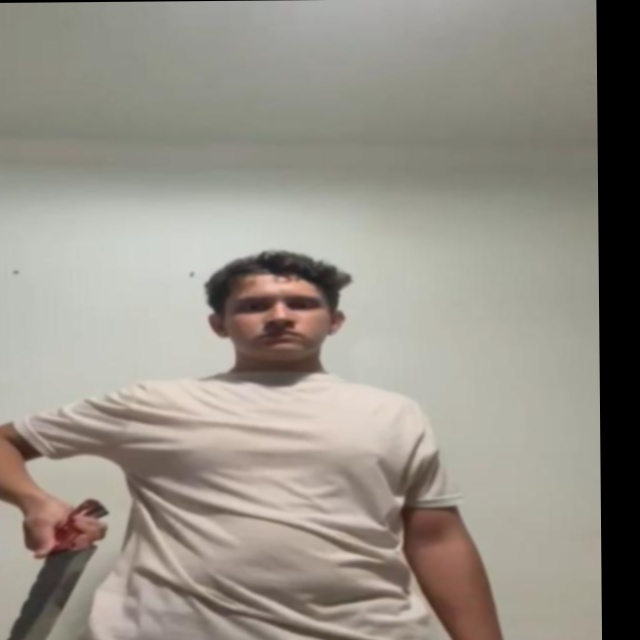Sharp-Object: (0, 548, 93, 640)
